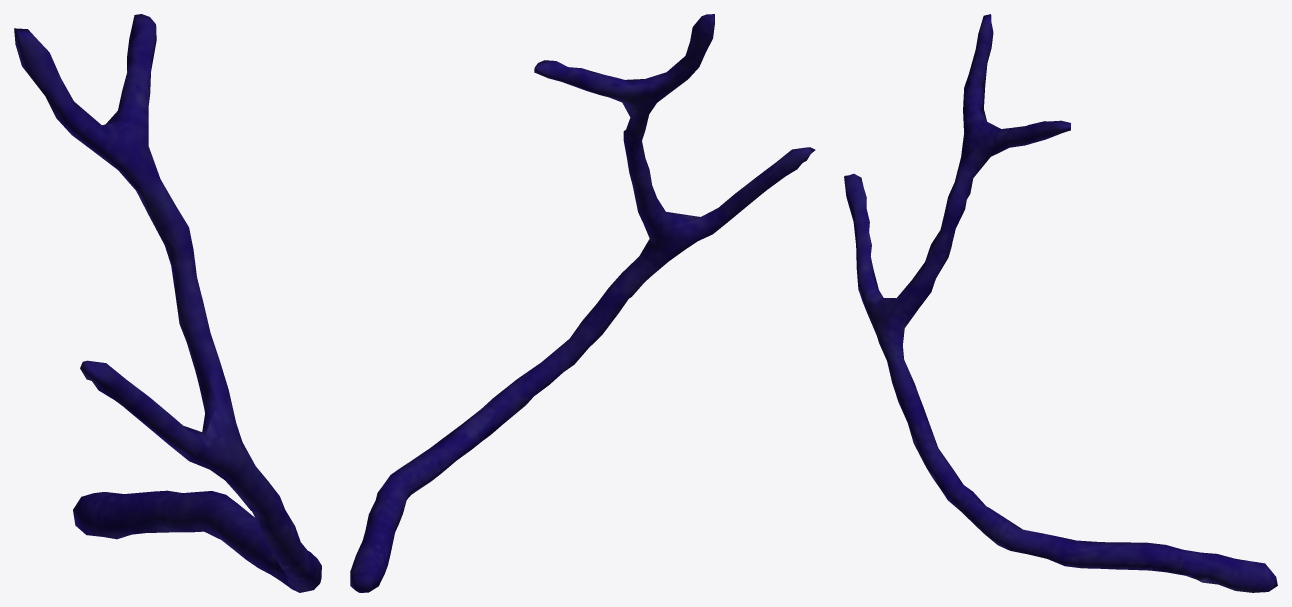
File: Vestibulocochlear_nerve_L.glb
3 renders of one model, left to right at view 1: azimuth 30°, elevation 25°; view 2: azimuth 150°, elevation 25°; view 3: azimuth 270°, elevation 25°, orthographic. The views are drawn at different scales.
Parts seen in each view (by area): view 1: Vestibulocochlear_nerve_L; view 2: Vestibulocochlear_nerve_L; view 3: Vestibulocochlear_nerve_L.
Part boxes in pixels (x1,y1,x2,y2): Vestibulocochlear_nerve_L: [14, 14, 321, 592]; Vestibulocochlear_nerve_L: [350, 14, 815, 592]; Vestibulocochlear_nerve_L: [844, 14, 1277, 592].
Size of the model in its own units: 0.035 by 0.0644 by 0.0522.
1 material, 1 textured.
